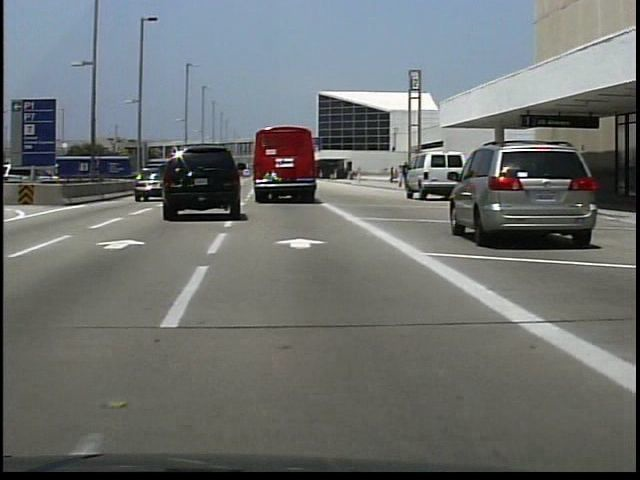person: (400, 161, 412, 195)
